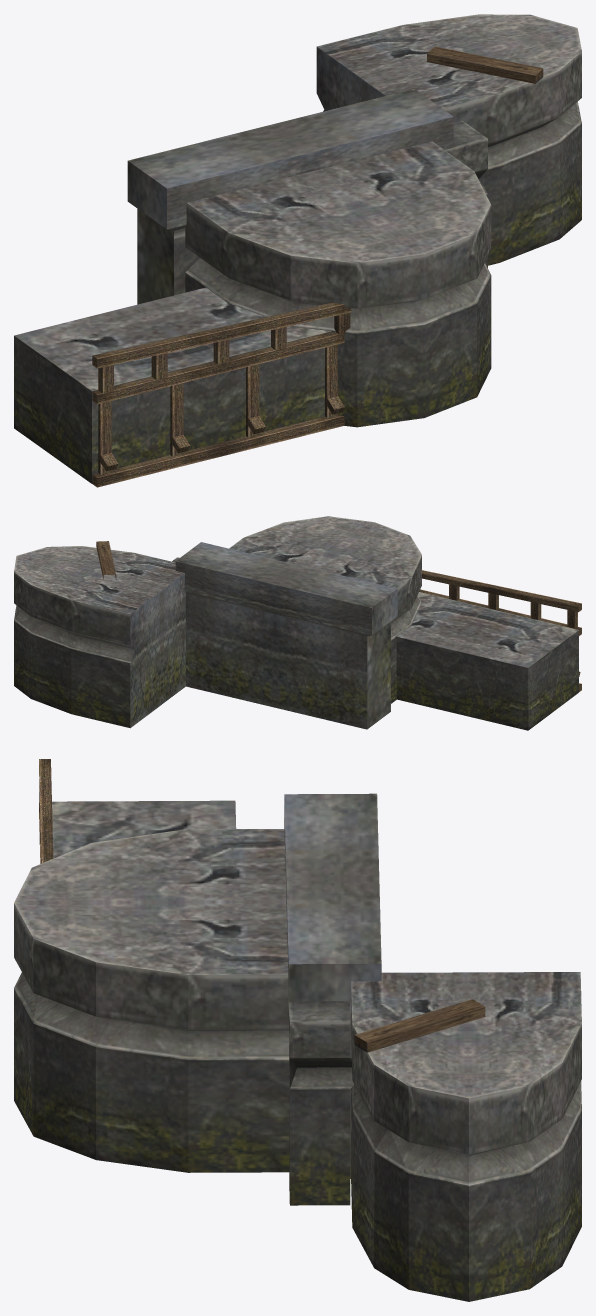
The picture shows the model from 3 angles, top to bottom: view 1: azimuth 30°, elevation 25°; view 2: azimuth 150°, elevation 25°; view 3: azimuth 270°, elevation 25°; orthographic projection. The views are drawn at different scales.
Visible parts, largest first — view 1: qingmo_obj_022 [10484270]; view 2: qingmo_obj_022 [10484270]; view 3: qingmo_obj_022 [10484270].
Part boxes in pixels (<box>): qingmo_obj_022 [10484270]: <box>14,14,581,487</box>; qingmo_obj_022 [10484270]: <box>14,516,581,730</box>; qingmo_obj_022 [10484270]: <box>14,759,581,1301</box>.
Bounding box in the file's own units: 22.04 × 13.6 × 5.84.
Materials: 1 (1 with a texture image).
